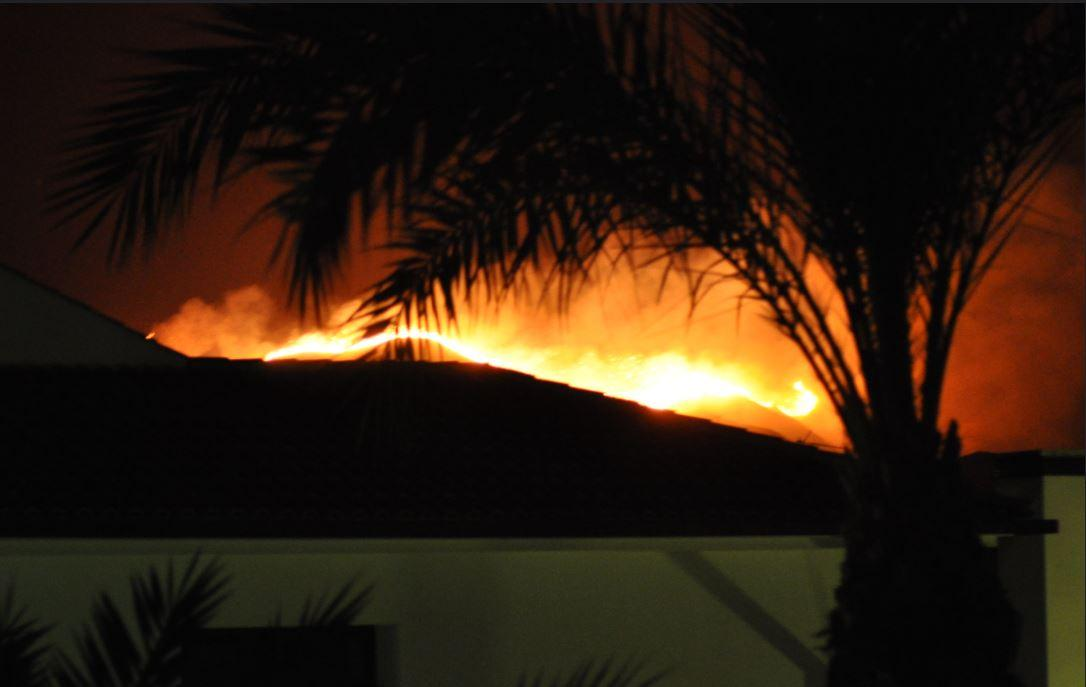fire: (274, 291, 821, 396)
